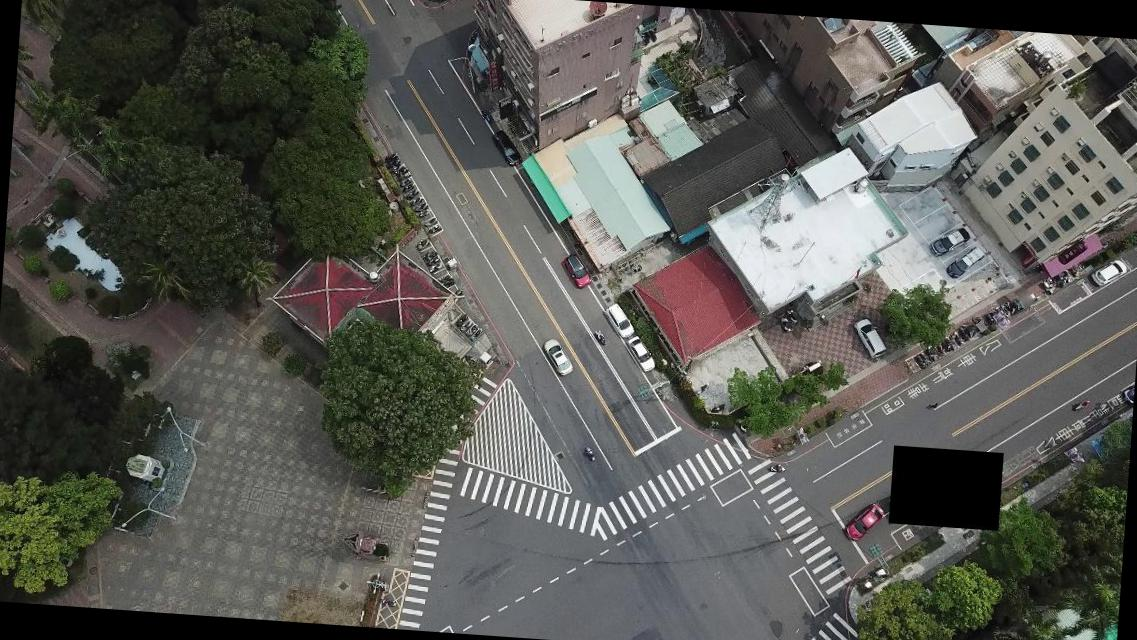vehicle: (844, 502, 883, 543), (852, 317, 891, 358), (944, 245, 986, 281), (928, 225, 970, 260), (540, 338, 574, 376), (490, 130, 524, 166), (1090, 256, 1128, 288), (604, 302, 636, 340), (560, 252, 592, 290), (625, 335, 656, 373), (1120, 384, 1132, 406)
